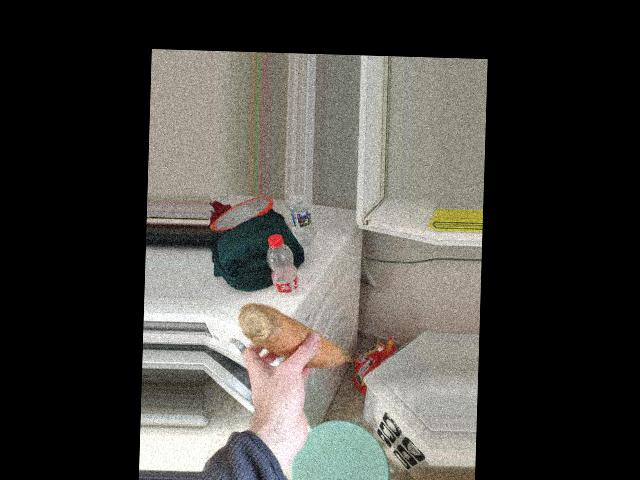sweet_potato: (243, 298, 344, 377)
